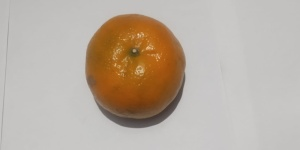BAD: (84, 12, 189, 123)
